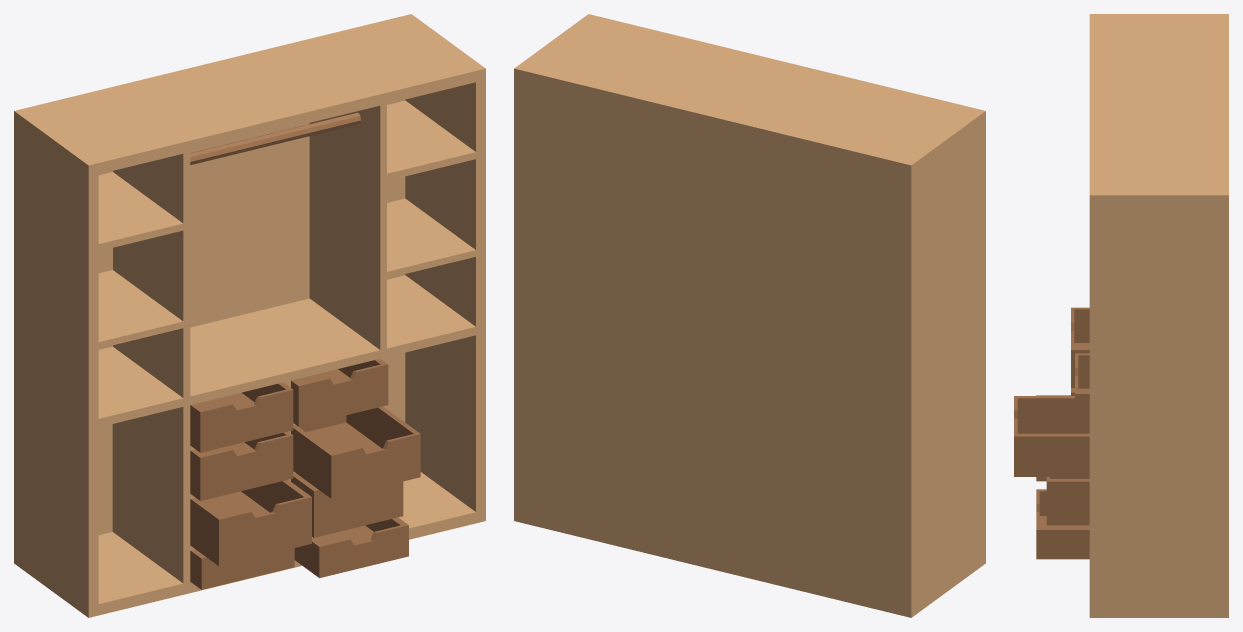
The model's file is Armoire1.fbx.
3 renders of one model, left to right at view 1: azimuth 30°, elevation 25°; view 2: azimuth 150°, elevation 25°; view 3: azimuth 270°, elevation 25°, orthographic. The views are drawn at different scales.
Parts seen in each view (by area): view 1: armoire2; view 2: armoire2; view 3: armoire2.
Part boxes in pixels (<box>): armoire2: <box>14,14,485,617</box>; armoire2: <box>514,14,985,617</box>; armoire2: <box>1014,14,1228,617</box>.
Size of the model in its own units: 616 by 670 by 309.
